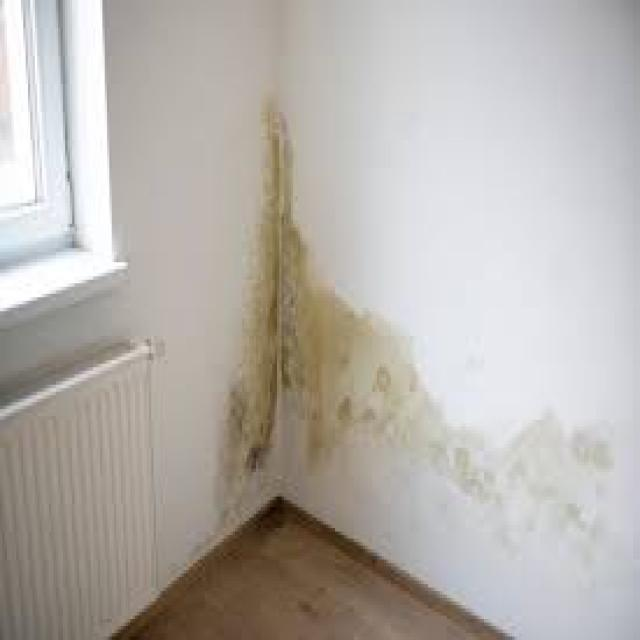stain_mould: (219, 97, 614, 572)
